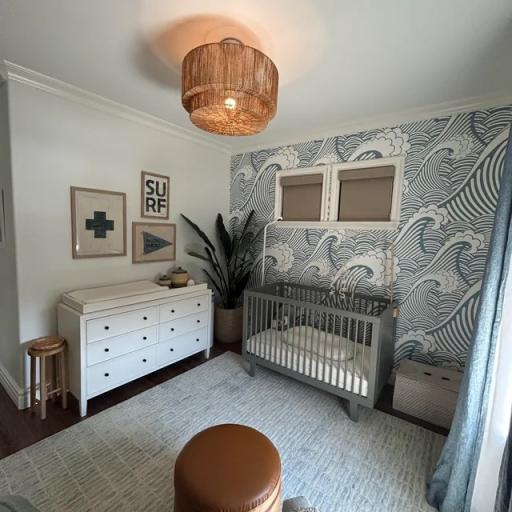crib: (243, 283, 395, 420)
